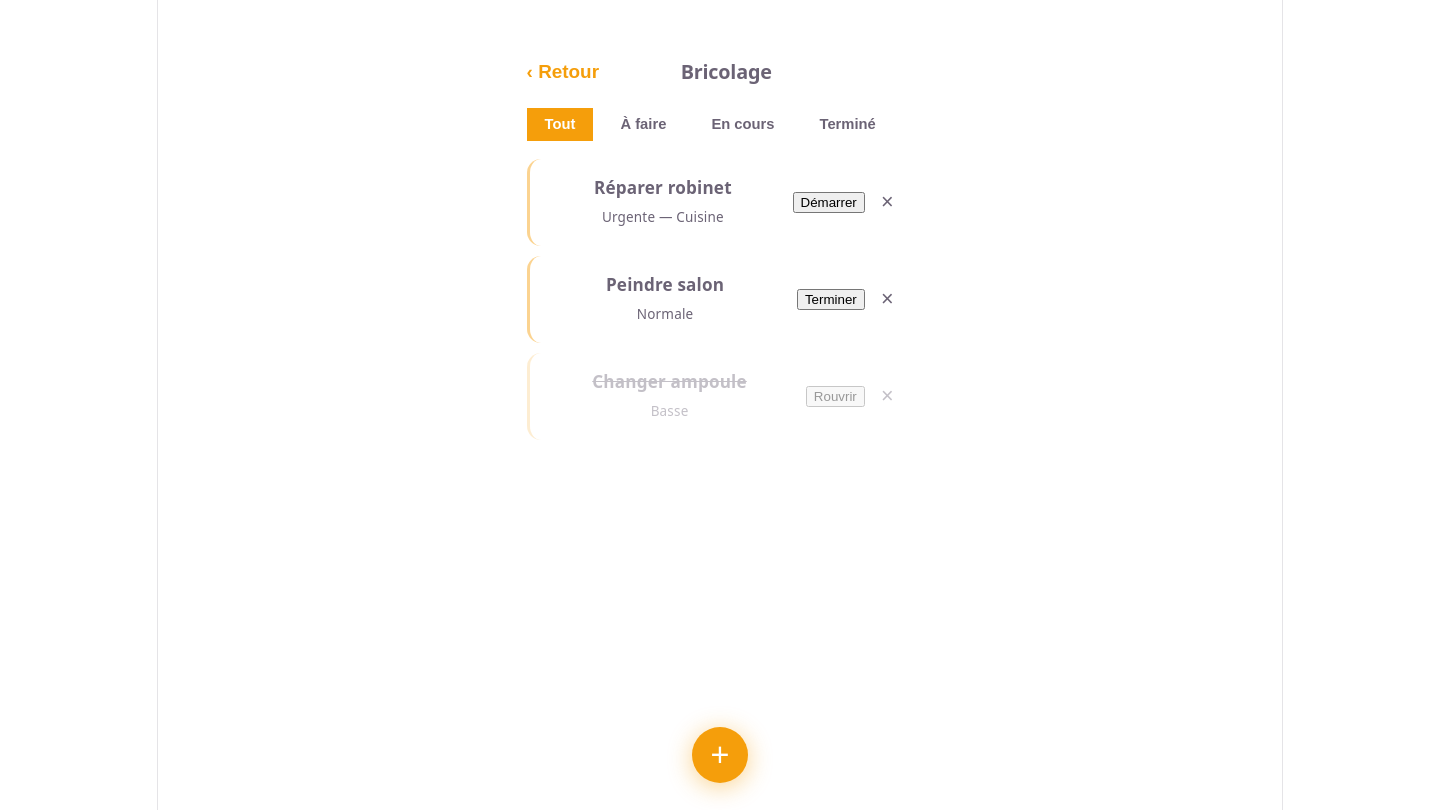
Test: BricolagePage › filters by statut when pill is clicked
Click the button "À faire" at (643, 124), box [602,108,684,141]
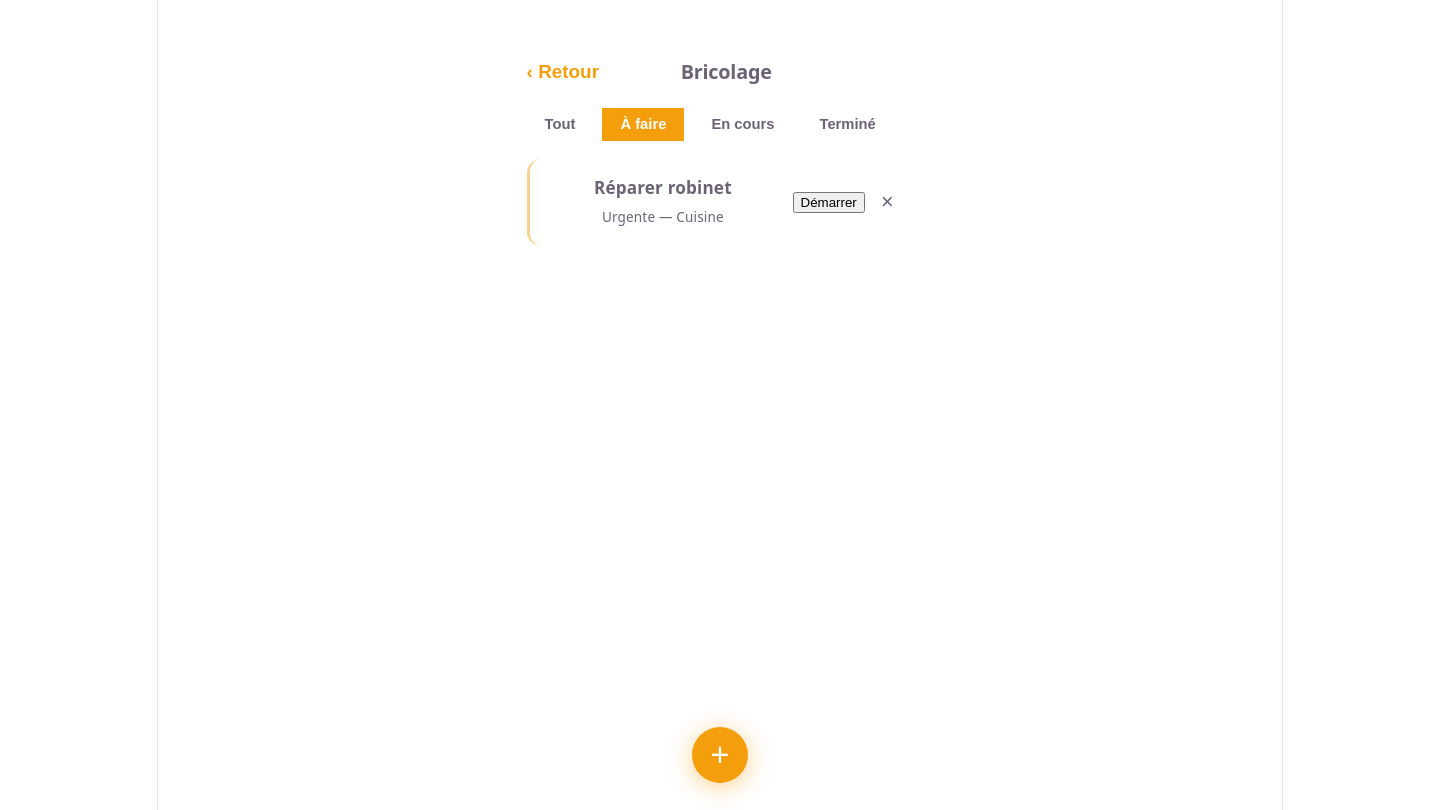
Expected: the text "Réparer robinet" is shown, [594,176,732,199]
Now the text "Peindre salon" is gone
Now the text "Changer ampoule" is gone
